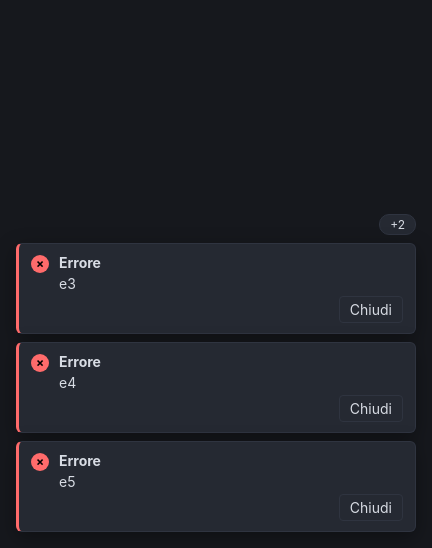
Toasts presentation › shows at most 3 toasts; the oldest collapse into "+N"
Expected: the text "e1" is not shown
Expected: the text "e2" is not shown
Click the button named "Mostra altre 2 notifiche": (398, 224) [379,214,416,235]
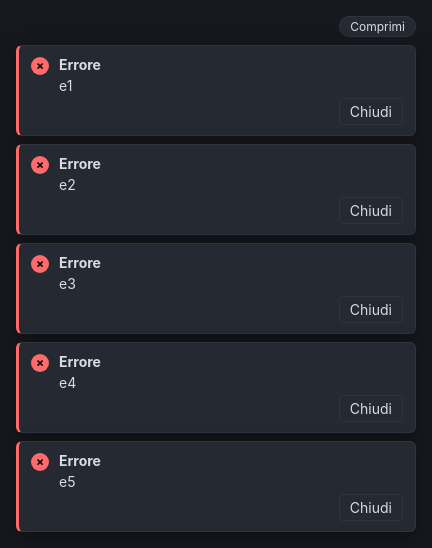
Expected: the number of messages with class "toast" is 5, [16,45,416,136]; [16,144,416,235]; [16,243,416,334]; [16,342,416,433]; [16,441,416,532]
